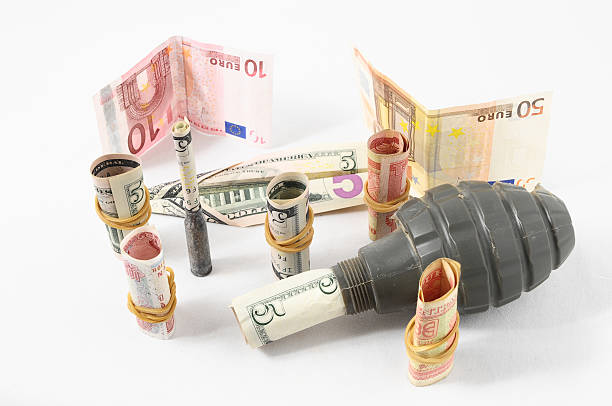e1: (332, 177, 578, 330)
